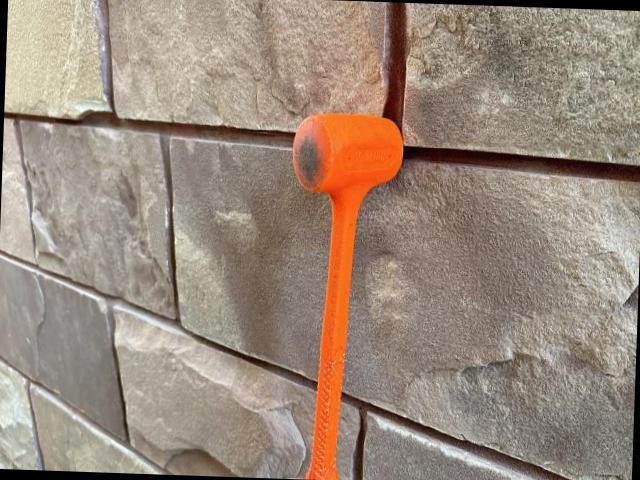hammer: (279, 110, 405, 480)
